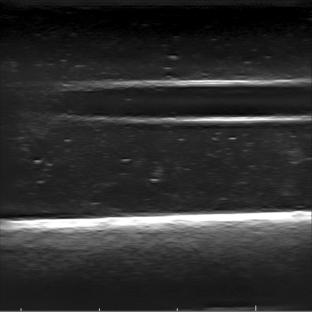vessel: (48, 76, 308, 128)
